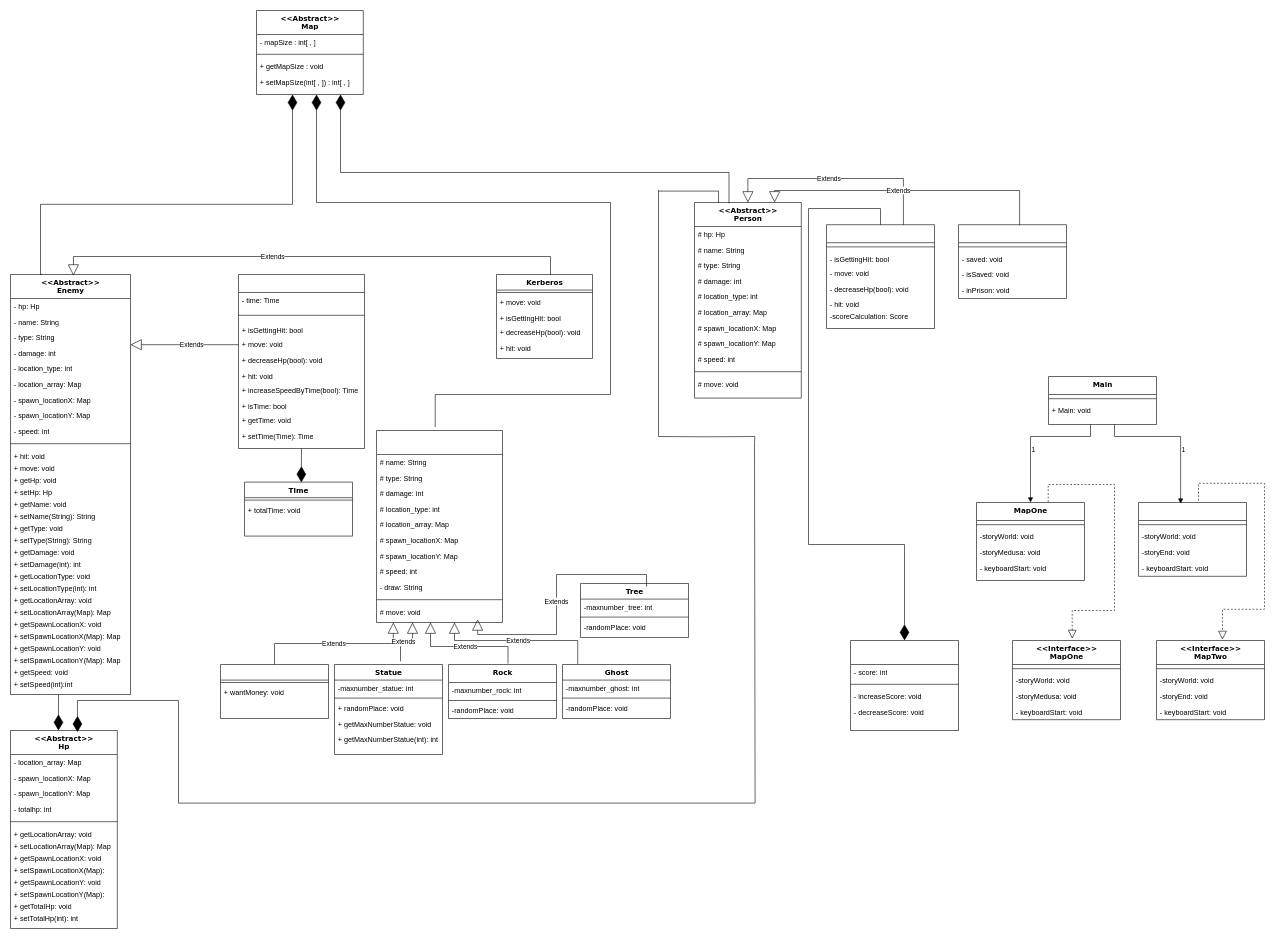
Some shapes in this 1283 by 939 pixel diagram are drawn without their labels. Here are the shapes that lost their labels. From the top down, the box of each, then its label:
(826, 224, 934, 328): Percy
(958, 224, 1066, 298): Annabeth
(238, 274, 364, 448): Medusa
(376, 430, 502, 622): <<Abstract>> Staff
(1138, 502, 1246, 576): MapTwo
(220, 664, 328, 718): Kharoon
(850, 640, 958, 730): <<Abstract>> Score
